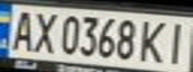0: (54, 11, 81, 56)
3: (78, 14, 100, 57)
6: (96, 15, 121, 60)
8: (115, 16, 142, 62)
A: (6, 7, 39, 52)
I: (160, 18, 193, 65)
K: (136, 17, 172, 64)
X: (27, 9, 60, 54)
